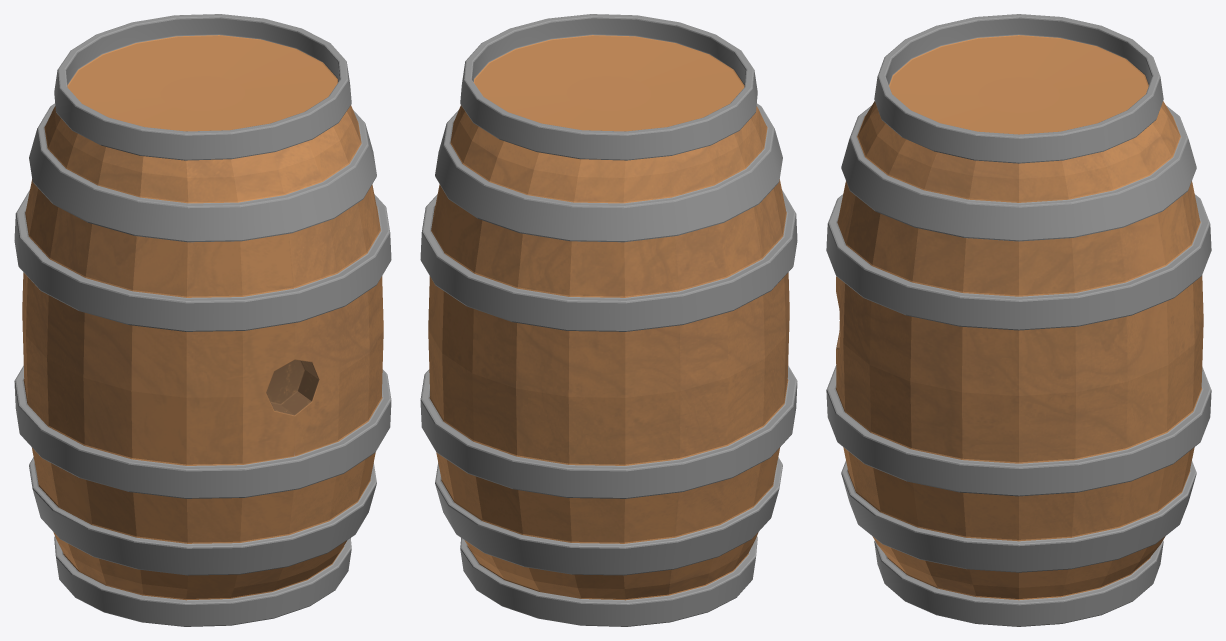
Rendered from Barrel.fbx.
3 renders of one model, left to right at view 1: azimuth 30°, elevation 25°; view 2: azimuth 150°, elevation 25°; view 3: azimuth 270°, elevation 25°, orthographic.
Parts seen in each view (by area): view 1: pCylinder1_pCylinder2_pCylinder11; view 2: pCylinder1_pCylinder2_pCylinder11; view 3: pCylinder1_pCylinder2_pCylinder11.
Part boxes in pixels (<box>): pCylinder1_pCylinder2_pCylinder11: <box>14,14,391,626</box>; pCylinder1_pCylinder2_pCylinder11: <box>420,14,797,626</box>; pCylinder1_pCylinder2_pCylinder11: <box>826,14,1211,626</box>.
Bounding box in the file's own units: 6.55 × 9.49 × 6.76.
